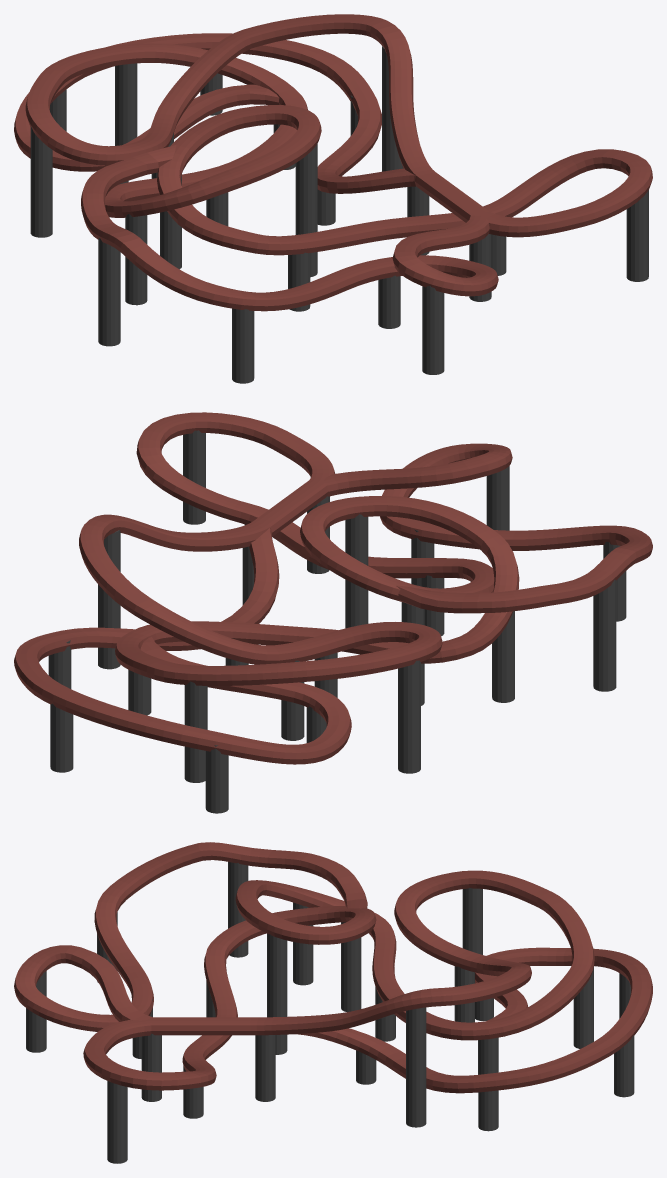
The model's file is Expert Racetrack.fbx.
3 renders of one model, top to bottom at view 1: azimuth 30°, elevation 25°; view 2: azimuth 150°, elevation 25°; view 3: azimuth 270°, elevation 25°, orthographic. The views are drawn at different scales.
Visible parts, largest first — view 1: Struts, Cylinder; view 2: Struts, Cylinder; view 3: Struts, Cylinder.
Part boxes in pixels (x1,y1,x2,y2): Struts: (14,14,652,311); Cylinder: (30,46,648,383); Struts: (14,412,652,764); Cylinder: (48,430,626,813); Struts: (14,842,652,1093); Cylinder: (26,862,634,1163).
Size of the model in its own units: 1907 by 526 by 2313.
